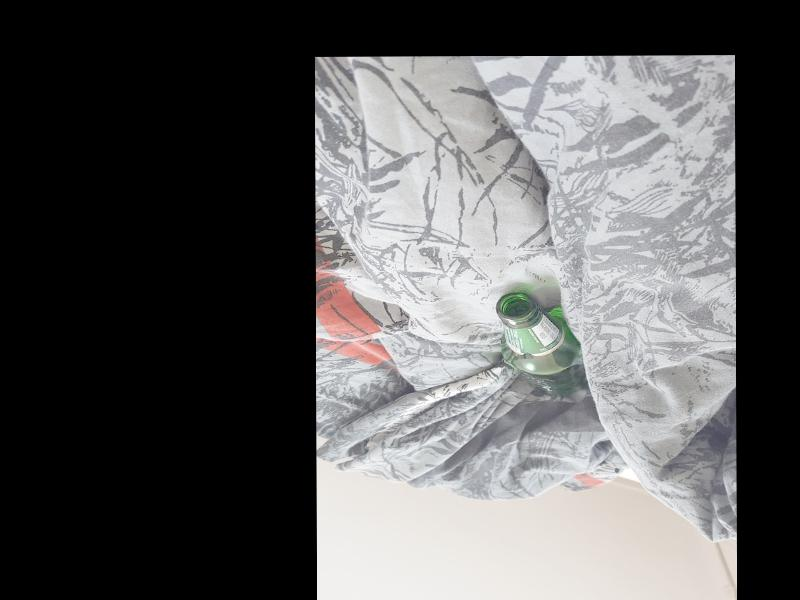Beer: (498, 291, 580, 394)
